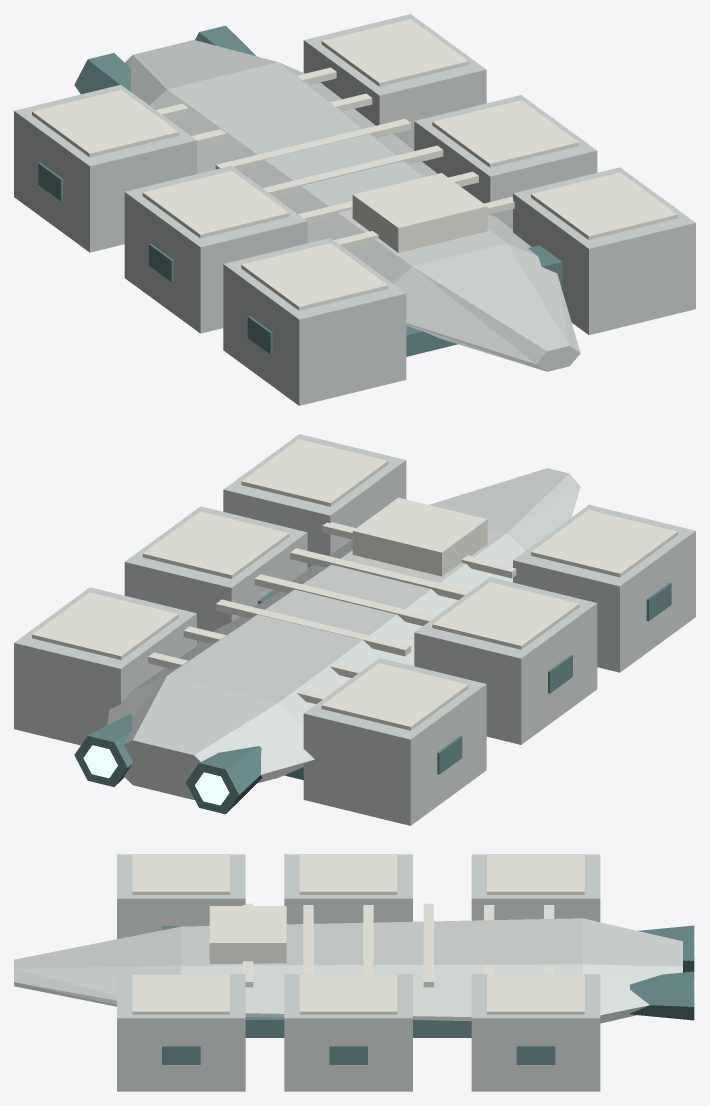
The picture shows the model from 3 angles, top to bottom: view 1: azimuth 30°, elevation 25°; view 2: azimuth 150°, elevation 25°; view 3: azimuth 270°, elevation 25°; orthographic projection. The views are drawn at different scales.
Size of the model in its own units: 6.77 by 1.62 by 11.77.
